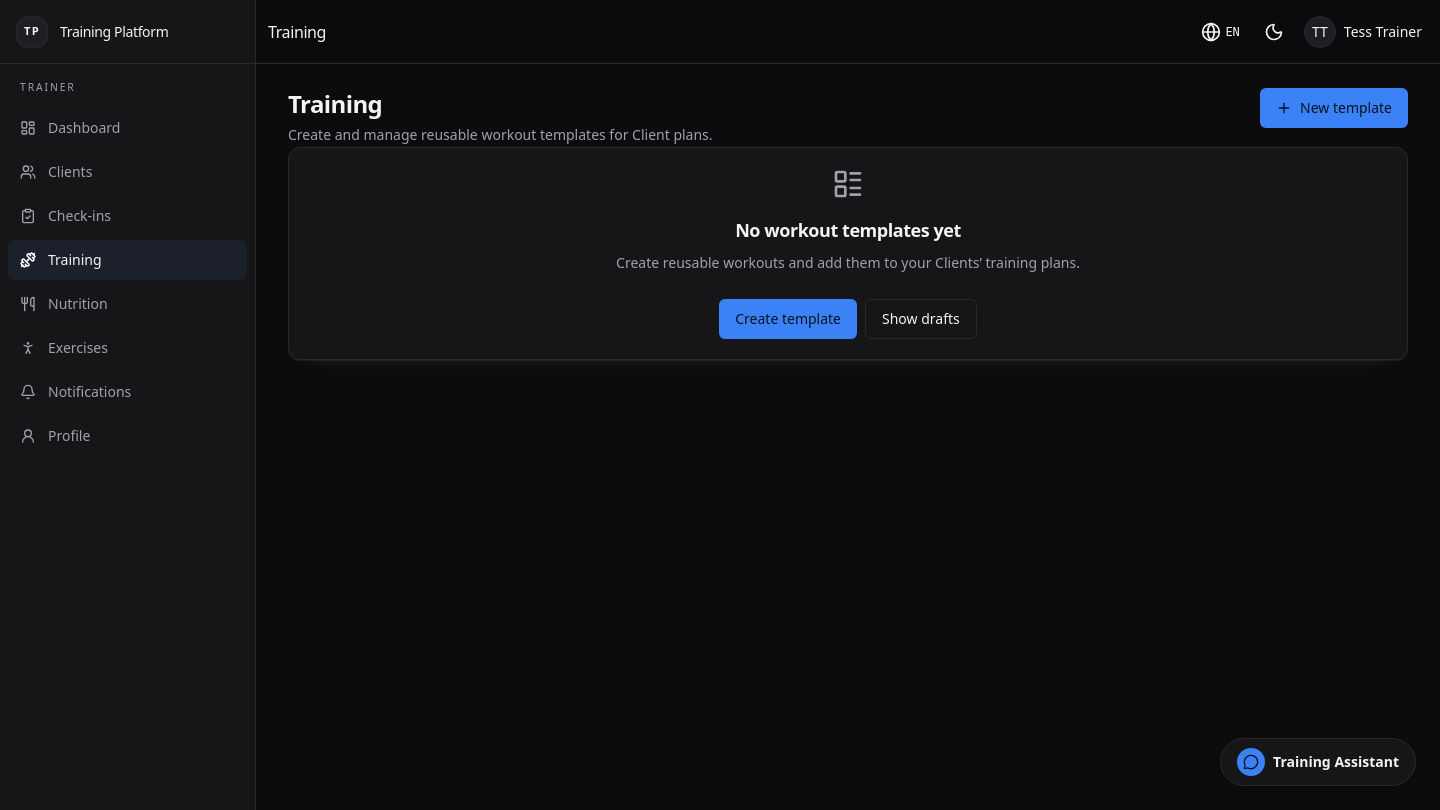
Trainer workspace › uses a distinct empty catalog state without the filter toolbar
Check: the heading "No workout templates yet" is shown, box [735,216,961,244]
Check: the text "Create reusable workouts and add them to your Clients’ training plans." is shown, box [616,252,1080,275]
Click the button "Create template". click: (788, 318)
box: [719,298,857,338]
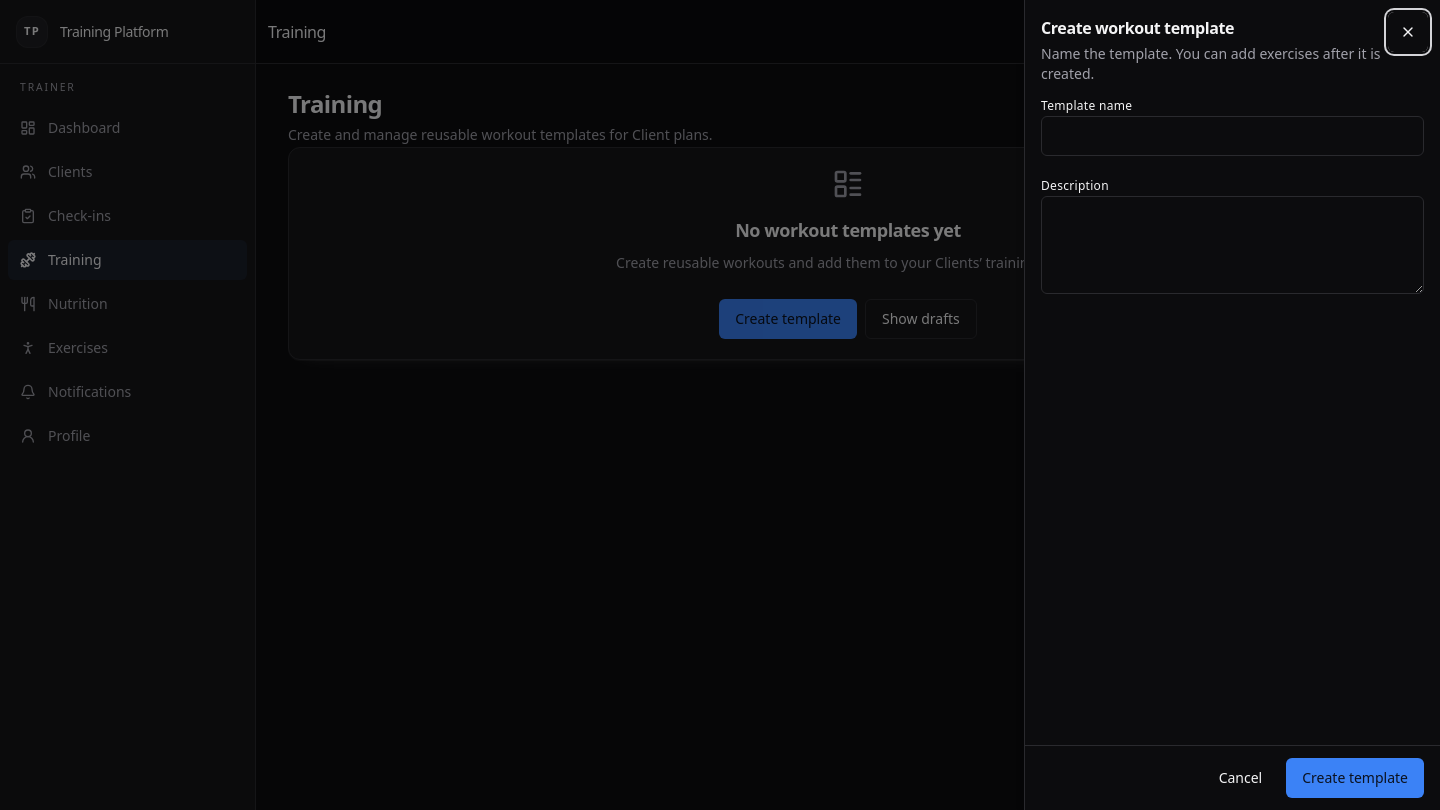
Check: the dialog is shown, box [1024,0,1439,809]
